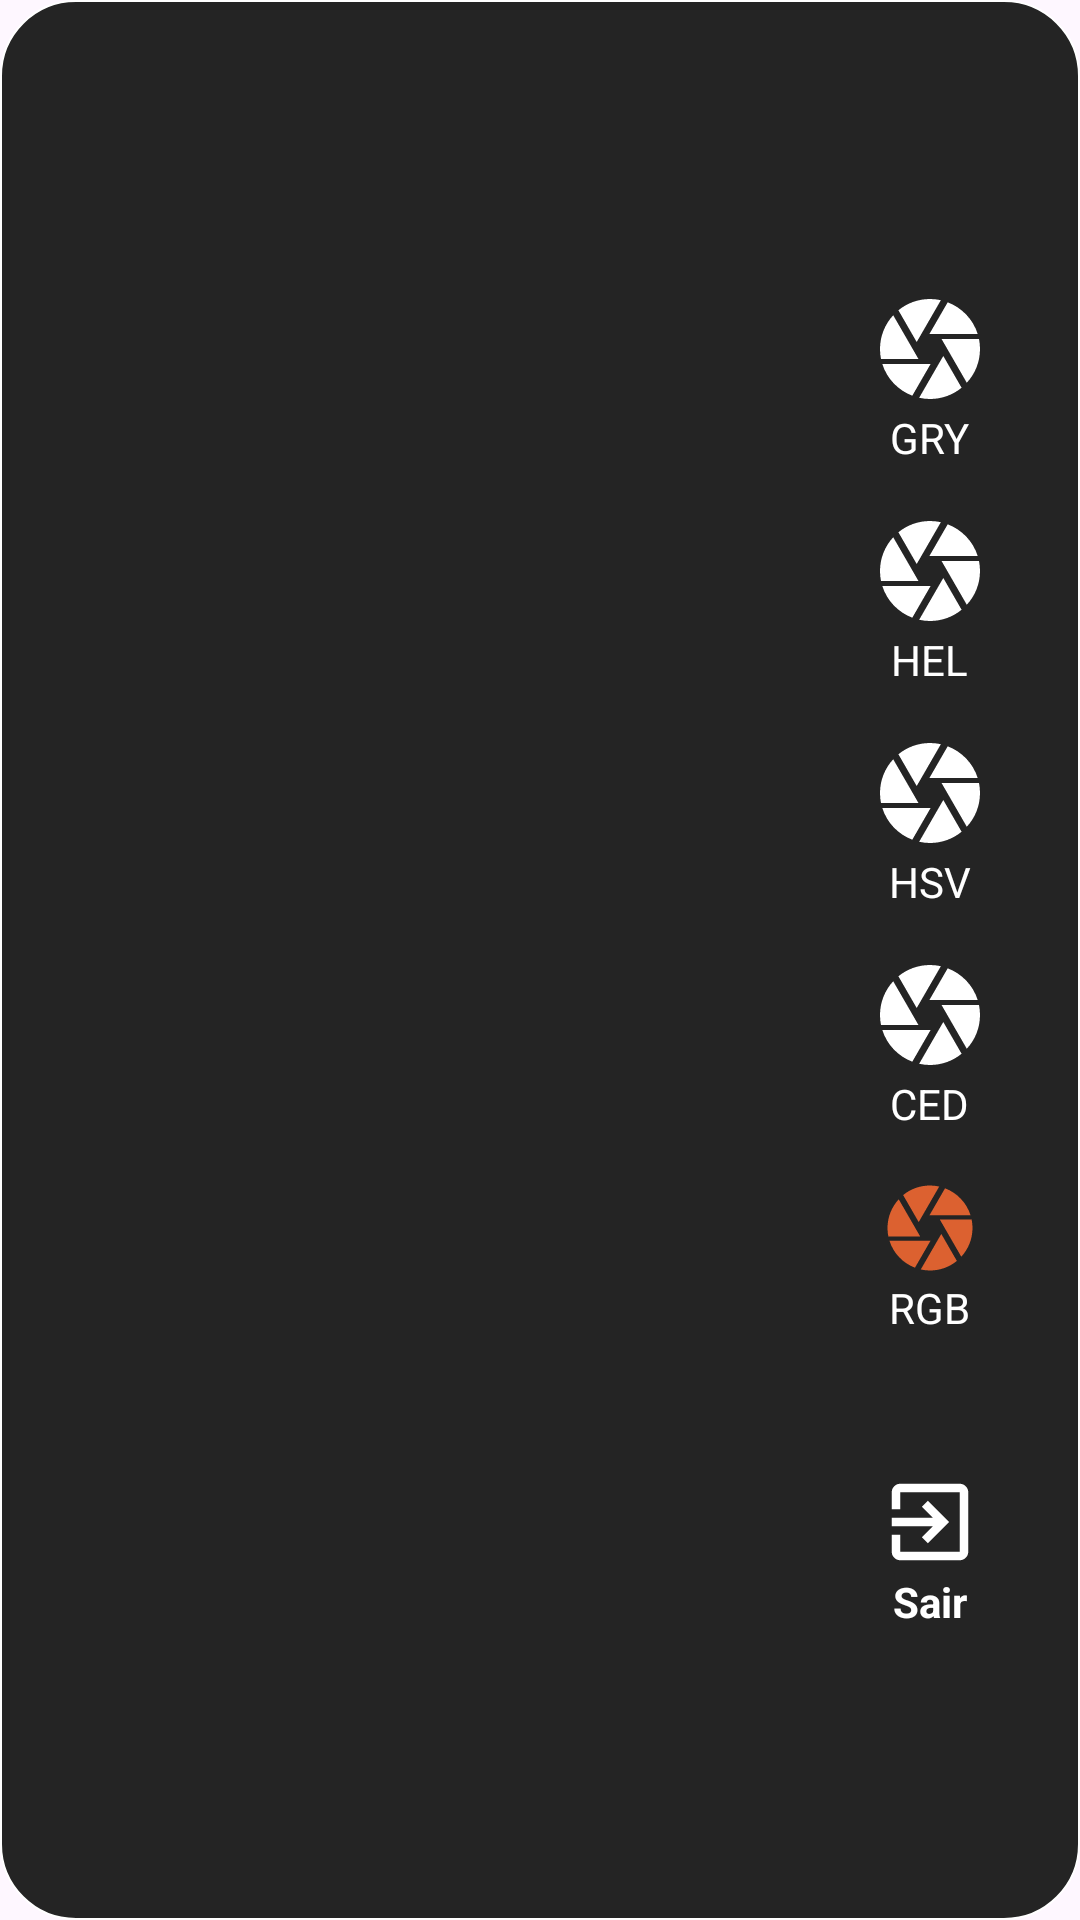

Where to tap for icons on this 1080 × 1920 app screen, as (x=x, y=y):
camera: (x=930, y=349), (x=930, y=571), (x=930, y=793), (x=930, y=1015)
